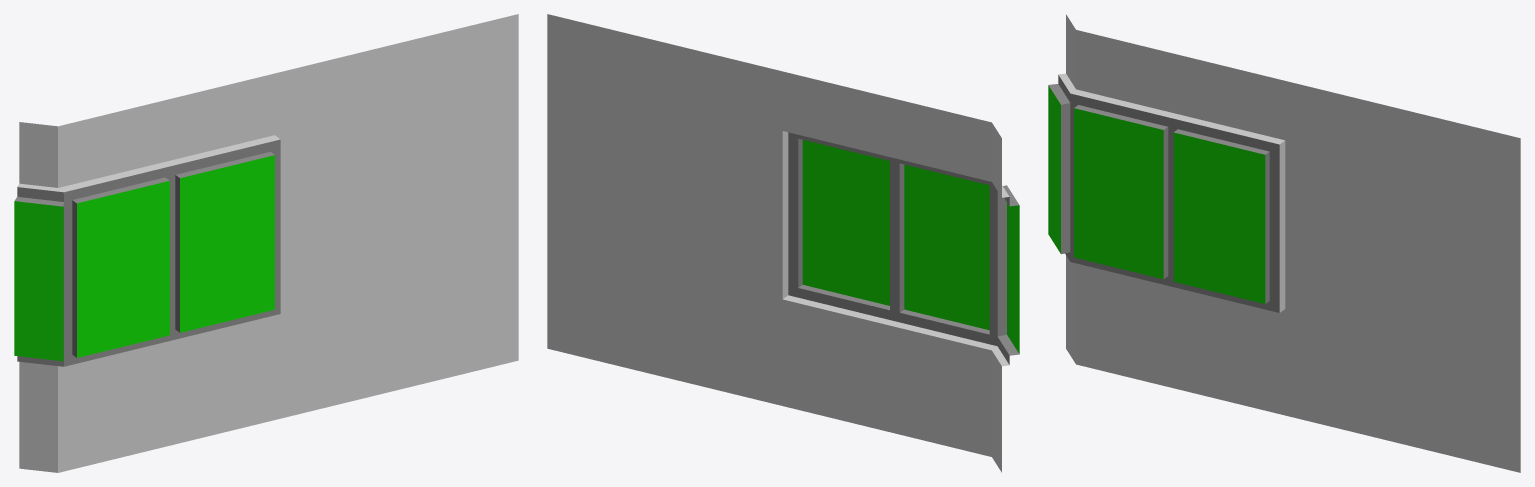
The model's file is Wall07_4m.fbx.
3 views of the same model, side by side, from view 1: azimuth 30°, elevation 25°; view 2: azimuth 150°, elevation 25°; view 3: azimuth 330°, elevation 25° (orthographic). The views are drawn at different scales.
Parts seen in each view (by area): view 1: Wall07_4m; view 2: Wall07_4m; view 3: Wall07_4m.
Boxes of the visible parts, bbox=[...] form: Wall07_4m: bbox=[14, 14, 518, 472]; Wall07_4m: bbox=[547, 14, 1019, 472]; Wall07_4m: bbox=[1048, 14, 1520, 472].
Bounding box in the file's own units: 3.9 × 2.6 × 0.3356.
